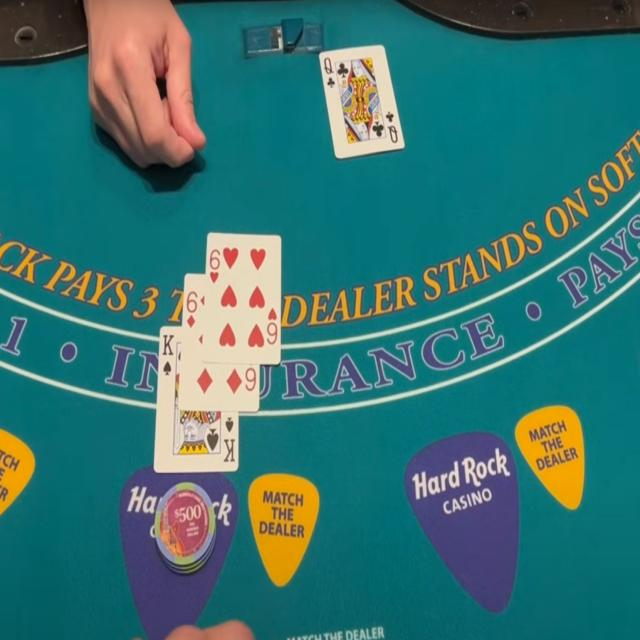6: (186, 288, 200, 314), (208, 246, 222, 270)
K: (161, 332, 175, 358)
Q: (322, 55, 335, 76)
